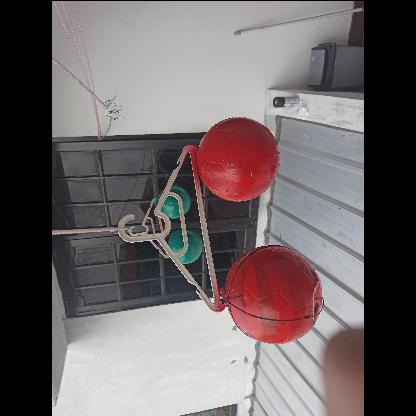red_ball: (224, 248, 320, 344), (197, 118, 279, 200)
